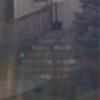stairs: (15, 27, 85, 83)
